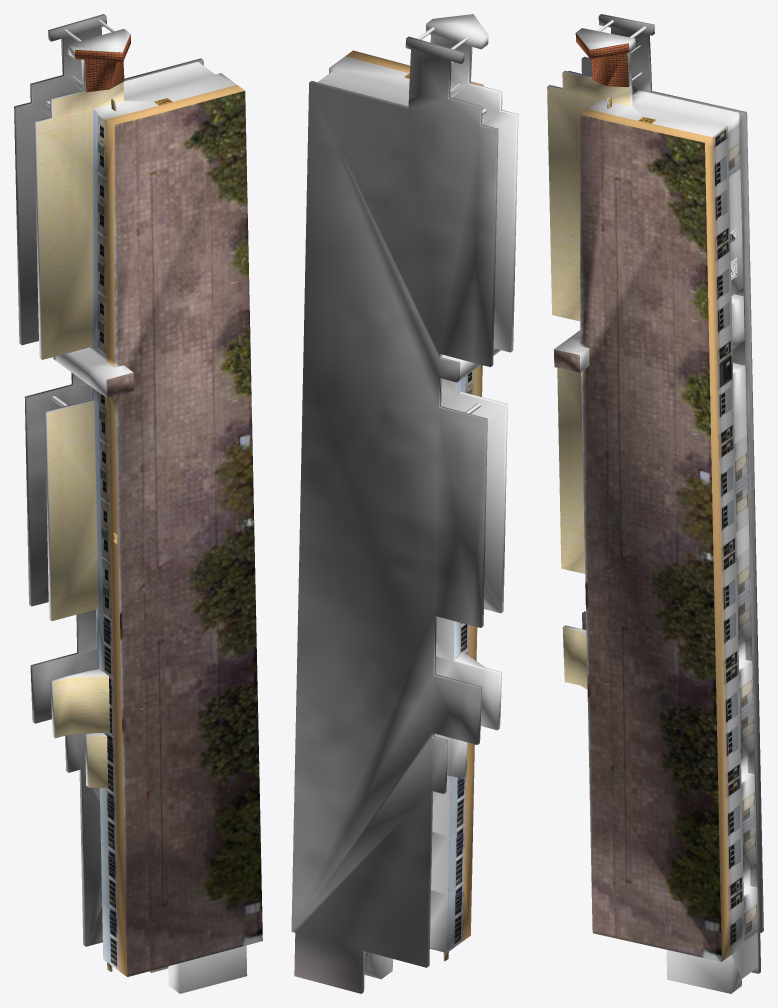
File: amk_blk347_building.obj
3 views of the same model, side by side, from view 1: azimuth 30°, elevation 25°; view 2: azimuth 150°, elevation 25°; view 3: azimuth 330°, elevation 25° (orthographic). The views are drawn at different scales.
Parts seen in each view (by area): view 1: polygon.819; view 2: polygon.819; view 3: polygon.819.
Part boxes in pixels (left/top/right/bottom): polygon.819: left=14, top=14, right=262, bottom=993; polygon.819: left=291, top=14, right=518, bottom=993; polygon.819: left=547, top=14, right=763, bottom=993.
Bounding box in the file's own units: 21.82 × 98.62 × 9.97.
1 material, 1 textured.
